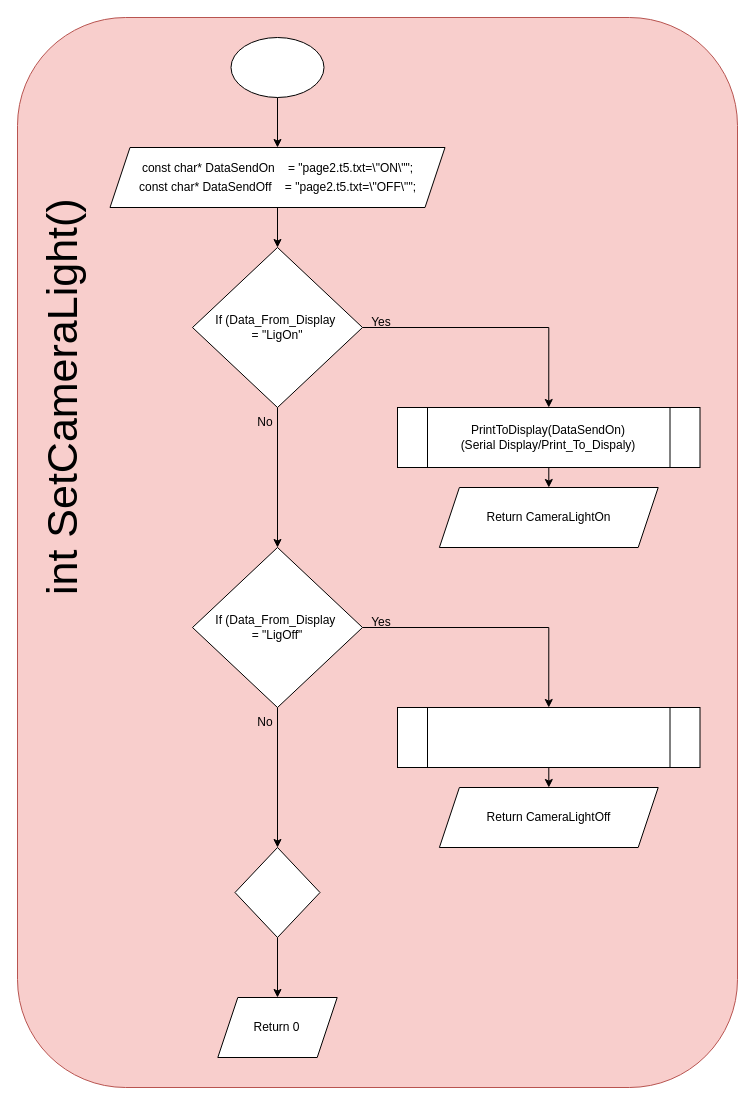
Some shapes in this 755 by 1105 pixel diagram are drawn without their labels. The shapes that lost their labels are listed below. From the top down, each one's centre as x and y in pixels, then its label:
point 277,67: Start
point 548,737: PrintToDisplay(DataSendOff ) (Serial Display/Print_To_Dispaly)
point 277,892: Else
